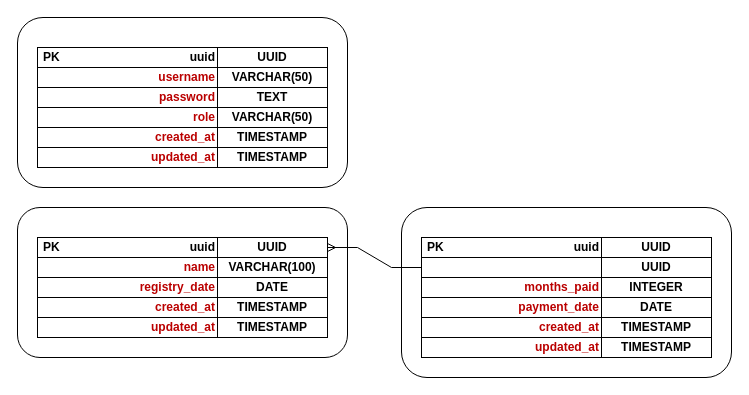
Image size: 749x395. Some labels were removed from this diagram. The box of each missing label's shape, as (x1, y1, x2, y2) in pixels:
customers: (16, 206, 348, 358)
FK customer_uuid: (420, 256, 602, 278)
transactions: (400, 206, 732, 378)
users: (16, 16, 348, 188)
